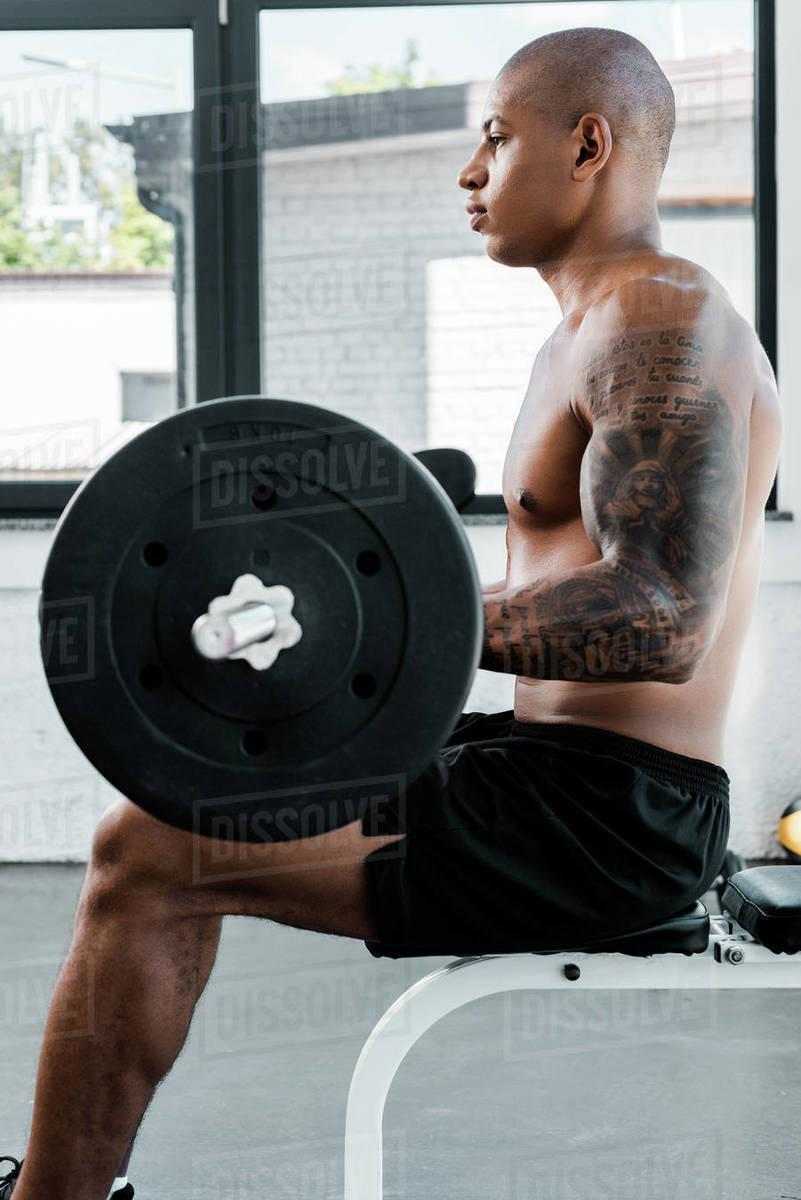Barbell: (188, 607, 245, 669)
